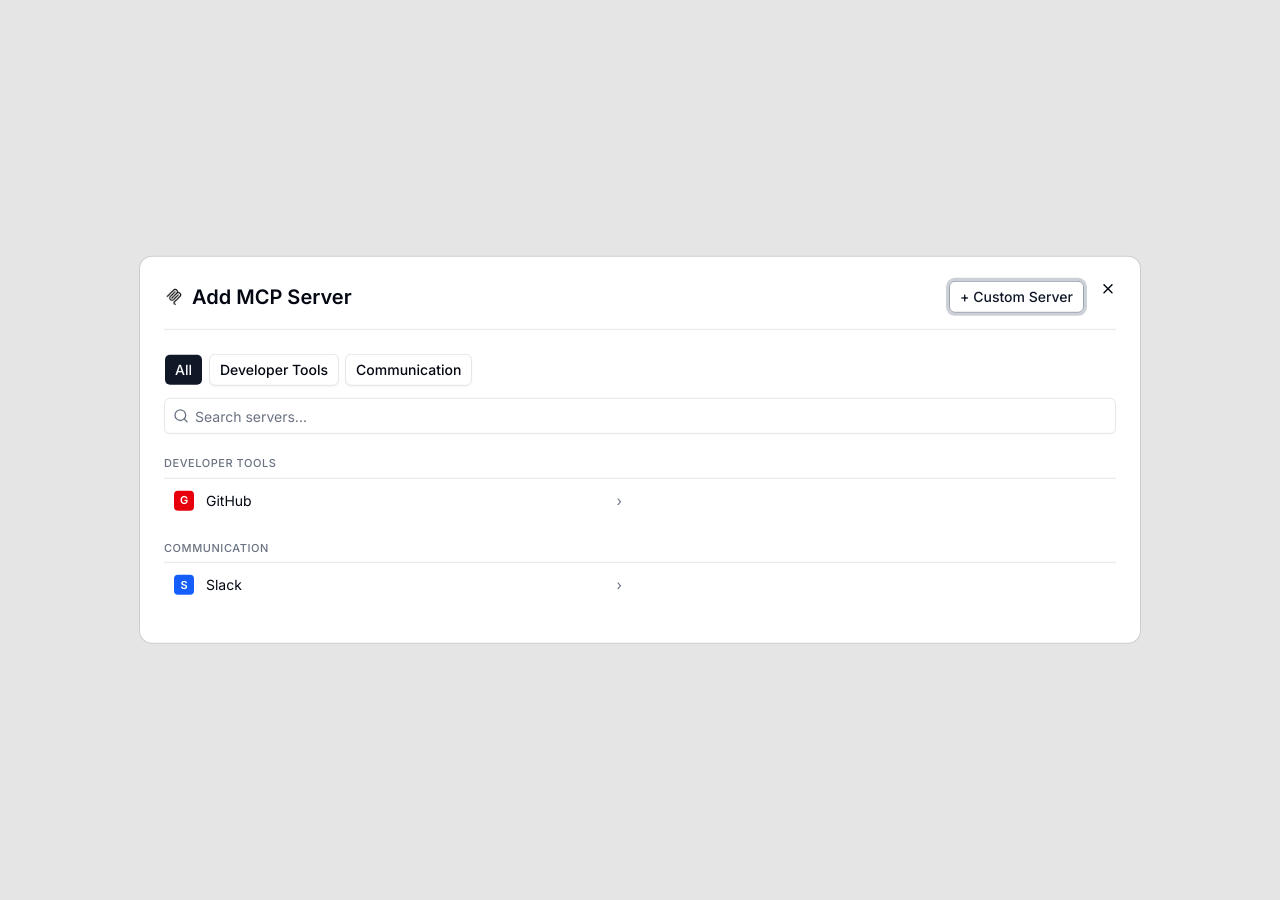
MCPDiscovery › filters the list down to the chosen category
Expected: the text "GitHub" is shown, [206, 492, 252, 508]
Step 1. Click the button "Communication" → (409, 370), box [345, 354, 472, 386]
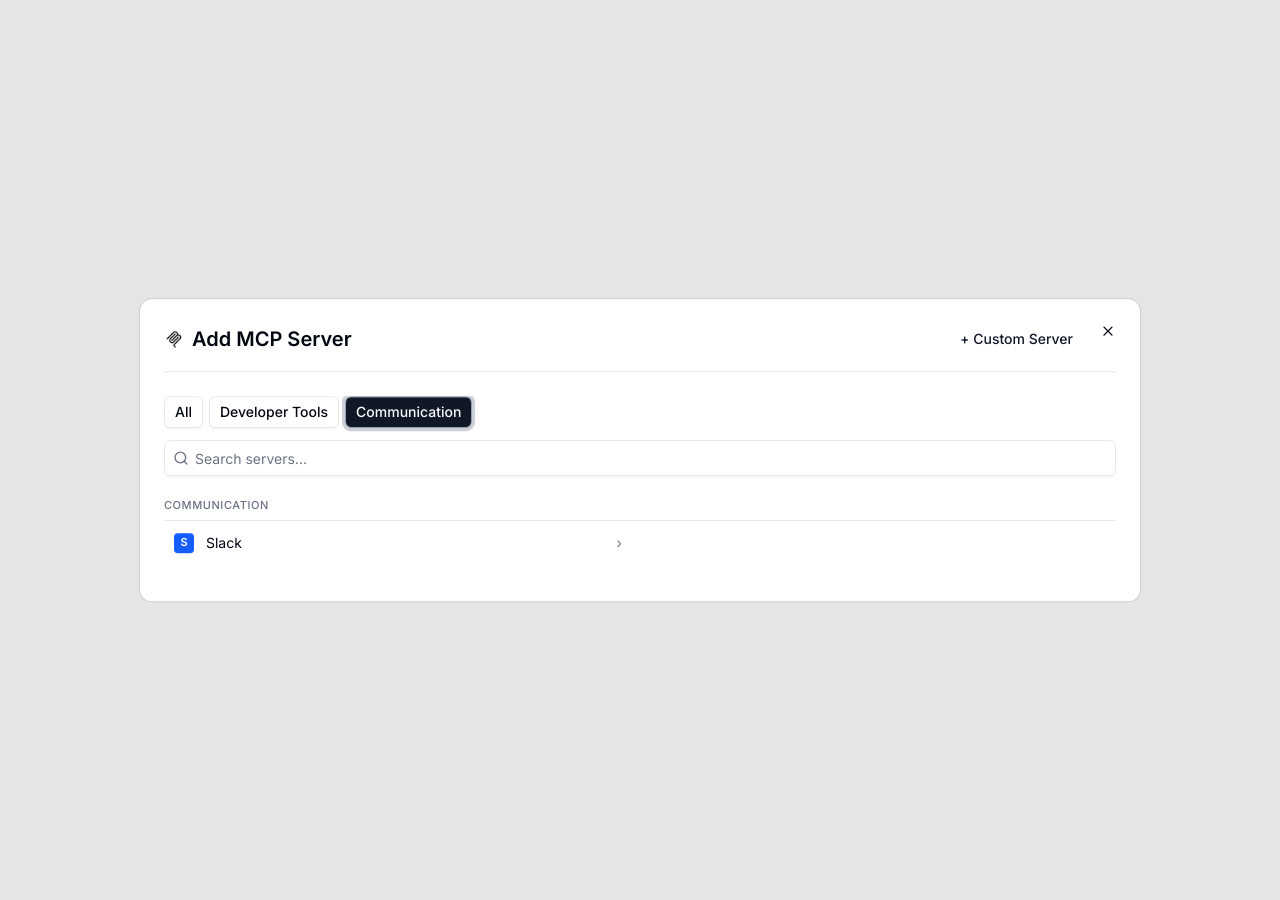
Expected: the text "Slack" is shown, [206, 534, 242, 551]
Result: the text "GitHub" is gone
